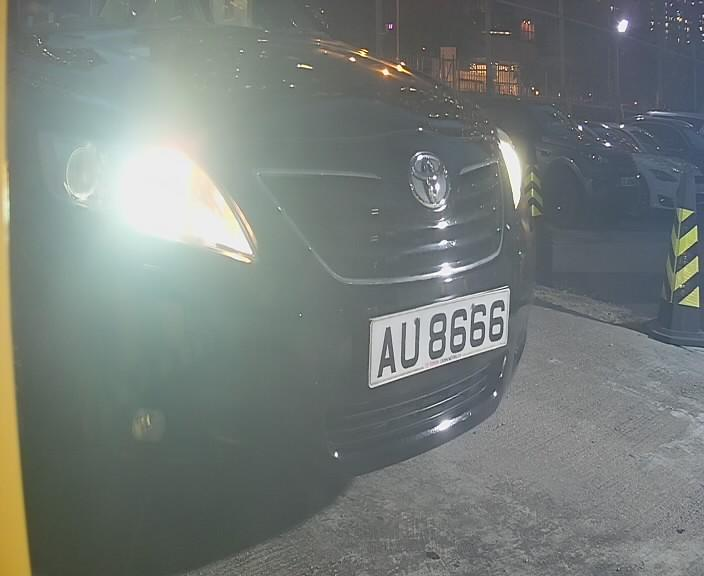Car: (1, 16, 620, 523)
License Plate: (359, 278, 513, 391)
